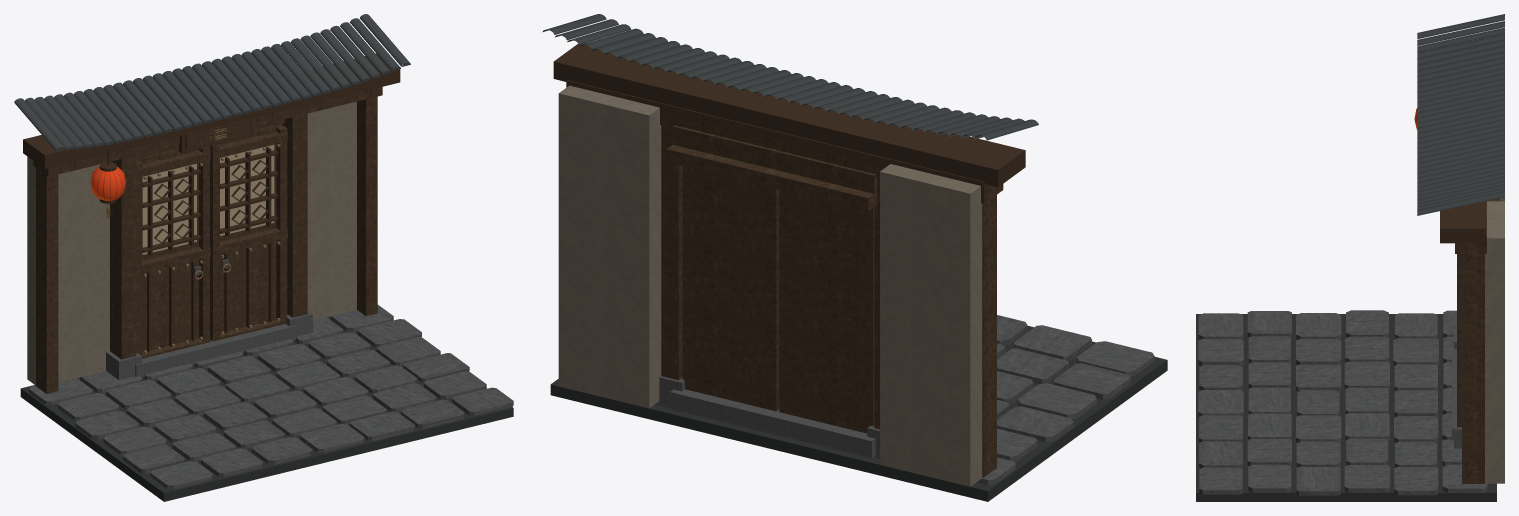
File: tavern_slice.glb
3 views of the same model, side by side, from view 1: azimuth 30°, elevation 25°; view 2: azimuth 150°, elevation 25°; view 3: azimuth 270°, elevation 25° (orthographic). The views are drawn at different scales.
Visible parts, largest first — view 1: Structure, Paving, Door_Right, Door_Left, Lantern; view 2: Structure, Paving, Door_Right, Door_Left; view 3: Paving, Structure.
Boxes of the visible parts, <box> form: Structure: <box>14,14,410,393</box>; Paving: <box>20,304,513,501</box>; Door_Right: <box>209,124,287,341</box>; Door_Left: <box>136,147,210,358</box>; Lantern: <box>90,147,125,218</box>; Structure: <box>542,14,1038,486</box>; Paving: <box>550,315,1167,501</box>; Door_Right: <box>682,166,779,411</box>; Door_Left: <box>779,189,874,433</box>; Paving: <box>1196,310,1496,501</box>; Structure: <box>1417,14,1504,483</box>.
Size of the model in its own units: 4.34 by 3.43 by 3.1.
Materials: 12 (3 with a texture image).
